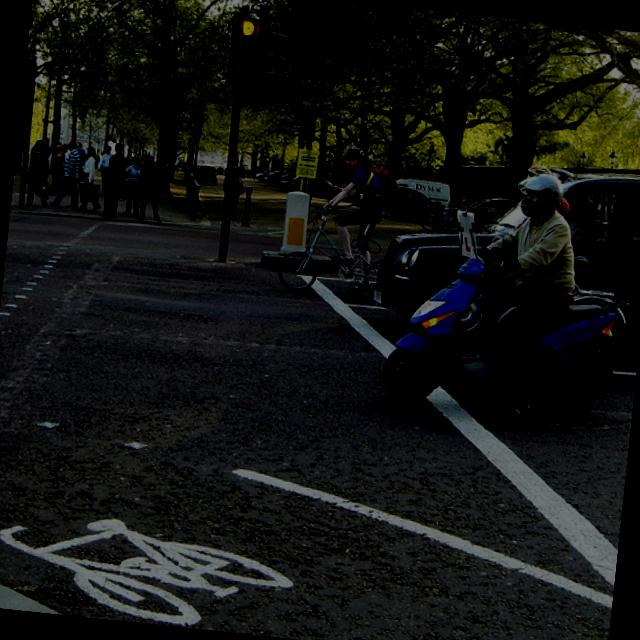Vehicle: (366, 149, 640, 339), (389, 244, 629, 412), (403, 144, 640, 213), (427, 190, 513, 235), (381, 184, 452, 226), (290, 172, 344, 196), (195, 165, 218, 185), (266, 170, 289, 188), (278, 172, 295, 192), (261, 169, 275, 184), (254, 169, 268, 180), (215, 168, 224, 175)
